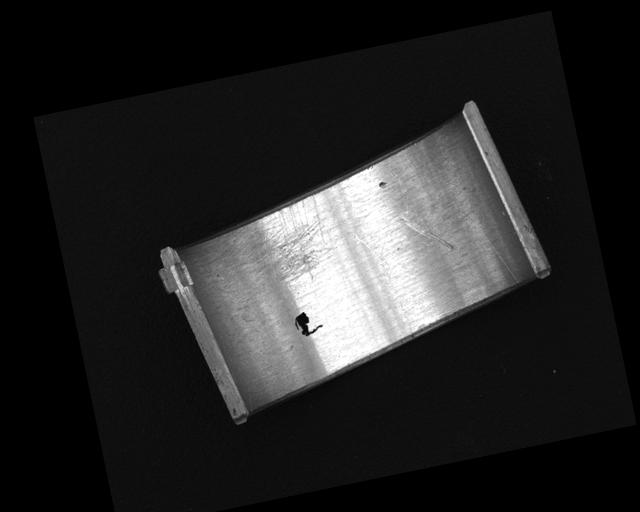blot: (292, 308, 324, 338)
bruise: (378, 179, 389, 190)
nick: (353, 227, 415, 343), (462, 204, 520, 293), (398, 206, 455, 259), (390, 167, 412, 220)
scratch: (215, 191, 342, 296)
